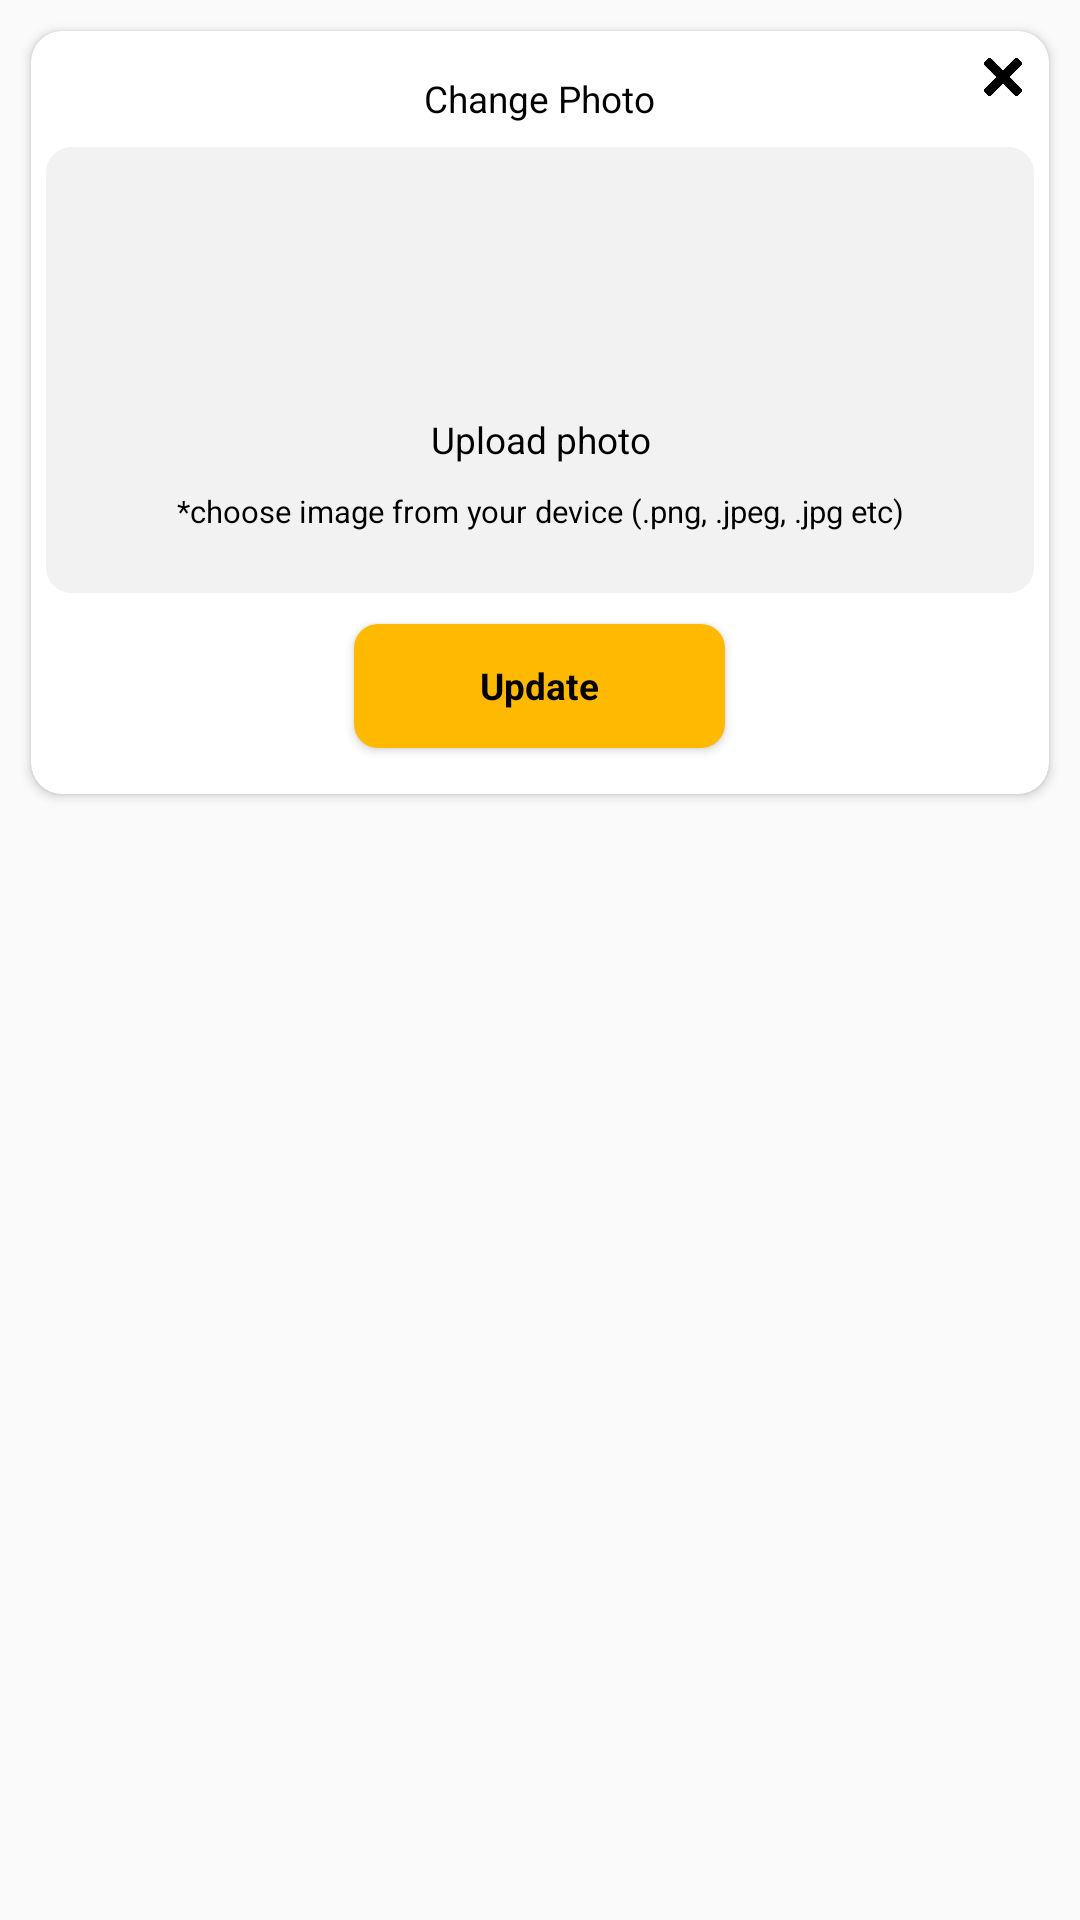

Where icons sit on this 1080×1920 app screen, as (x1, y1, x2, y2):
close: (984, 58, 1022, 96)
